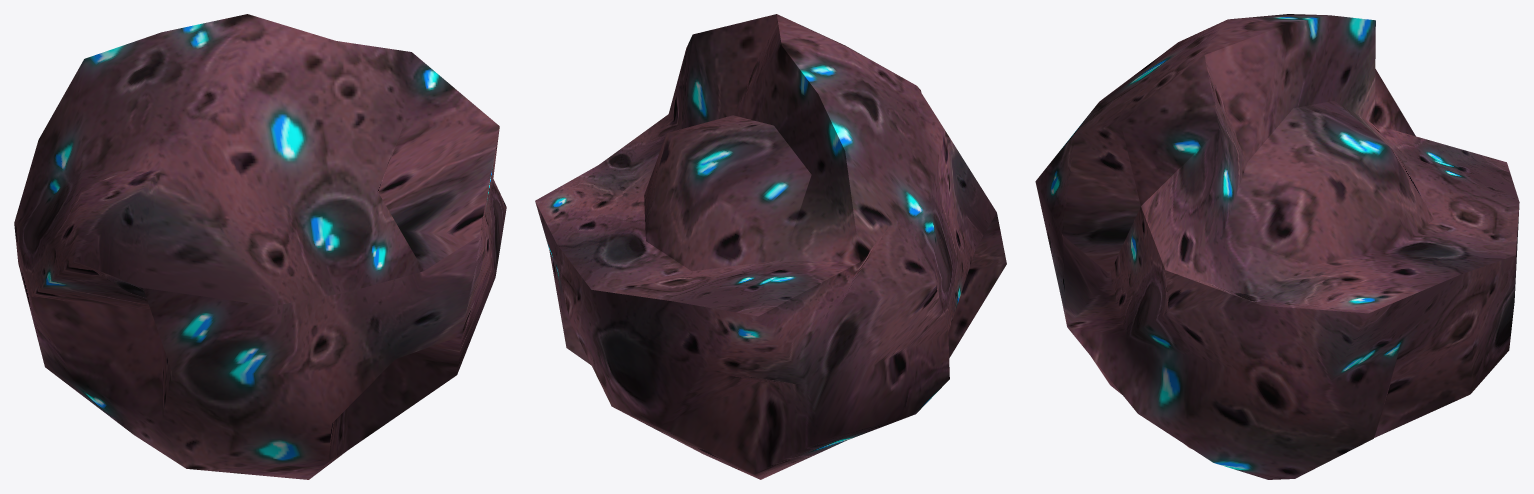
Rendered from Asteroid_Lrg_B_01.FBX.
The picture shows the model from 3 angles, left to right: view 1: azimuth 30°, elevation 25°; view 2: azimuth 150°, elevation 25°; view 3: azimuth 270°, elevation 25°; orthographic projection. The views are drawn at different scales.
Visible parts, largest first — view 1: Asteroid_Lrg_B_01; view 2: Asteroid_Lrg_B_01; view 3: Asteroid_Lrg_B_01.
Boxes of the visible parts, x1,y1,x2,y2 form: Asteroid_Lrg_B_01: (14,14,506,479); Asteroid_Lrg_B_01: (535,14,1006,479); Asteroid_Lrg_B_01: (1035,14,1519,479).
Size of the model in its own units: 865 by 858 by 882.
